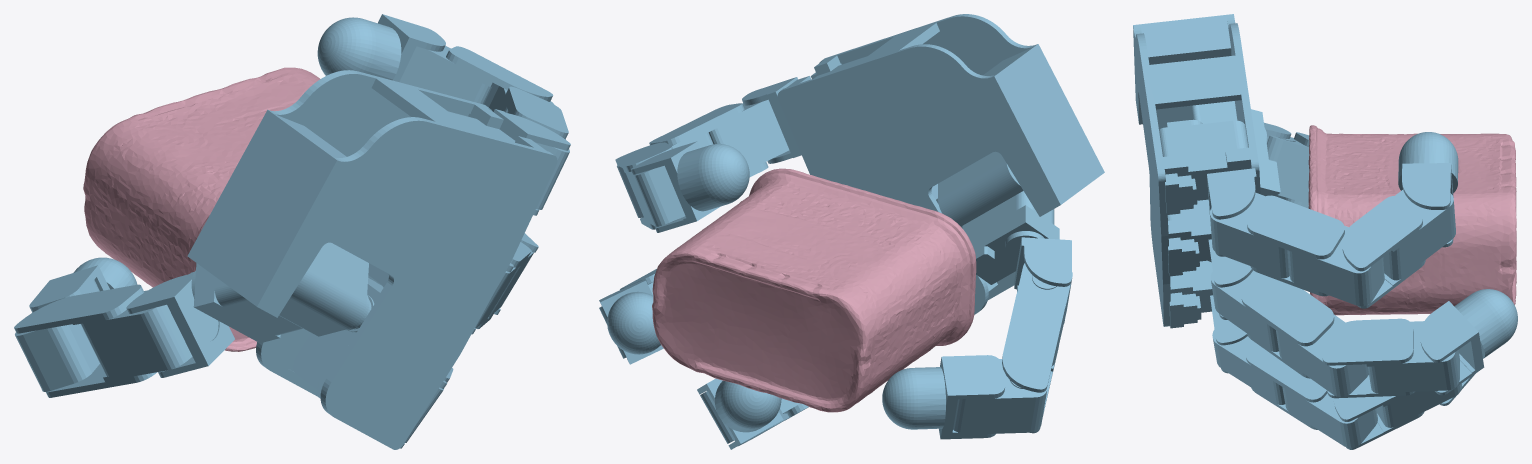
The picture shows the model from 3 angles, left to right: view 1: azimuth 30°, elevation 25°; view 2: azimuth 150°, elevation 25°; view 3: azimuth 270°, elevation 25°; orthographic projection. The views are drawn at different scales.
Parts seen in each view (by area): view 1: world; view 2: world; view 3: world.
Boxes of the visible parts, box(x1,y1,x2,y2) form: world: box(14, 14, 570, 449); world: box(599, 14, 1104, 449); world: box(1133, 14, 1517, 449).
Size of the model in its own units: 0.2005 by 0.162 by 0.1545.
